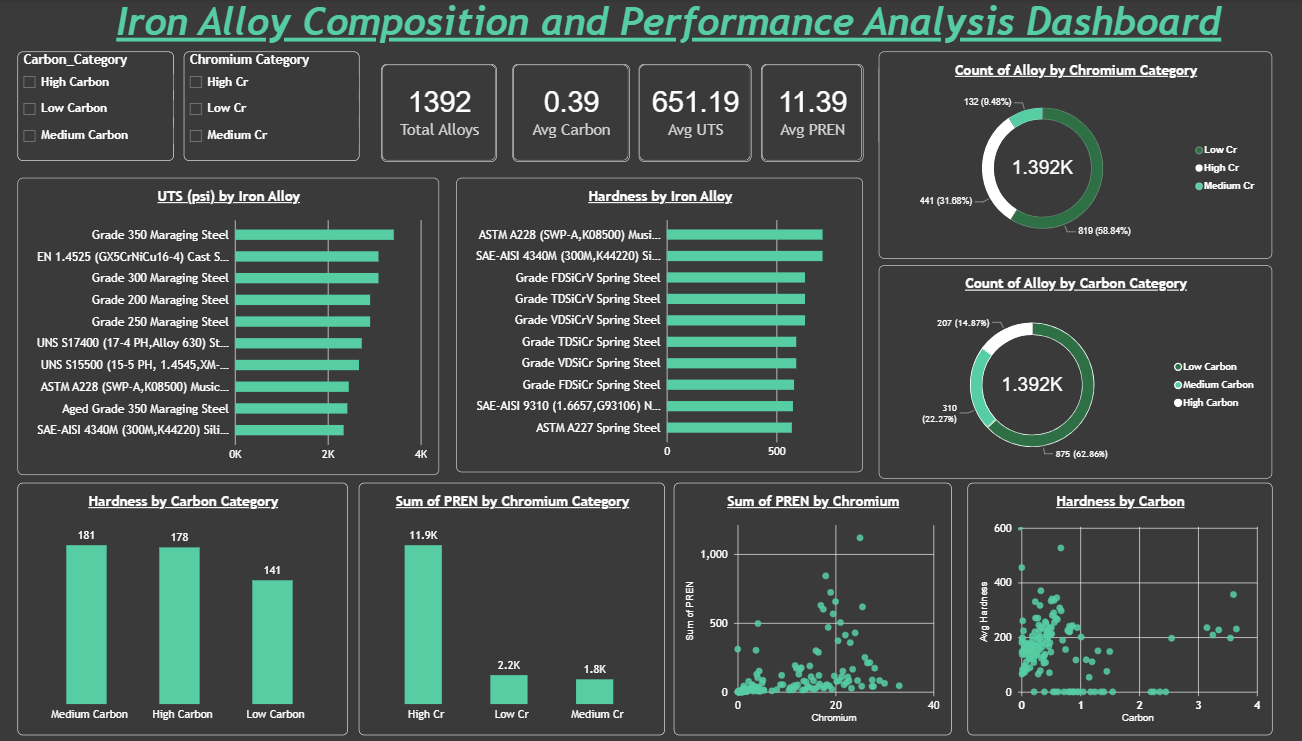

This screenshot's page, from the dashboard's own definition file:
{"tool":"powerbi","page":{"name":"Page 1","canvas":[1920,1080],"ordinal":0},"visuals":[{"type":"cardVisual","fields":{"Data":["Iron_Alloys_Table.Total Alloys"]},"box":[552.2,93.5,167.4,141.3],"z":0},{"type":"cardVisual","fields":{"Data":["Iron_Alloys_Table.Avg UTS"]},"box":[923.9,93.5,163,141.3],"z":1000},{"type":"cardVisual","fields":{"Data":["Iron_Alloys_Table.Avg Carbon"]},"box":[741.3,93.5,169.6,141.3],"z":2000},{"type":"cardVisual","fields":{"Data":["Iron_Alloys_Table.Avg Hardness"]},"box":[1271.7,93.5,178.3,119.6],"z":3000},{"type":"cardVisual","fields":{"Data":["Iron_Alloys_Table.Avg PREN"]},"box":[1102.2,93.5,147.8,141.3],"z":4000},{"type":"clusteredBarChart","title":"UTS (psi) by Iron Alloy","fields":{"Category":["Iron_Alloys_Table.Iron_Alloy_Name"],"Y":["Sum(Iron_Alloys_Table.UTS_psi)"]},"box":[26,258,610,430],"z":5000},{"type":"clusteredBarChart","title":"Hardness by Iron Alloy","fields":{"Category":["Iron_Alloys_Table.Iron_Alloy_Name"],"Y":["Iron_Alloys_Table.Avg Hardness"]},"box":[660.9,258.7,589.1,426.1],"z":6000},{"type":"clusteredColumnChart","title":"Hardness by Carbon Category","fields":{"Category":["Iron_Alloys_Table.Carbon_Category"],"Y":["Iron_Alloys_Table.Avg Hardness"]},"box":[26.1,700,478.3,365.2],"z":7000},{"type":"clusteredColumnChart","title":"Sum of PREN by Chromium Category","fields":{"Category":["Iron_Alloys_Table.Chromium_Category"],"Y":["Sum(Iron_Alloys_Table.PREN)"]},"box":[519.6,700,443.5,365.2],"z":8000},{"type":"scatterChart","title":"Hardness by Carbon","fields":{"X":["Iron_Alloys_Table.Carbon"],"Y":["Iron_Alloys_Table.Avg Hardness"]},"box":[1400,700,441.3,365.2],"z":9000},{"type":"scatterChart","fields":{"X":["Iron_Alloys_Table.Chromium"],"Y":["Sum(Iron_Alloys_Table.PREN)"]},"box":[976.1,700,402.2,365.2],"z":10000},{"type":"slicer","fields":{"Values":["Iron_Alloys_Table.Carbon_Category"]},"box":[26.1,76.1,226,158],"z":11000},{"type":"slicer","fields":{"Values":["Iron_Alloys_Table.Chromium_Category"]},"box":[265.2,76.1,254,158],"z":12000},{"type":"donutChart","title":"Count of Alloy by Carbon Category","fields":{"Category":["Iron_Alloys_Table.Carbon_Category"],"Y":["CountNonNull(Iron_Alloys_Table.Alloy_ID)"]},"box":[1271.7,384.8,569.6,308.7],"z":13000},{"type":"donutChart","title":"Count of Alloy by Chromium Category","fields":{"Category":["Iron_Alloys_Table.Chromium_Category"],"Y":["CountNonNull(Iron_Alloys_Table.Alloy_ID)"]},"box":[1271.7,76.1,569.6,300],"z":14000},{"type":"textbox","box":[1320,494,194,150],"z":15000},{"type":"textbox","box":[168,0,1674,100],"z":16000}]}

Visuals, with their boxes in screenshot pixels (x1, y1, x2, y2), scaled from the page's 1920x1080 canvas onto the 1302x741 screenshot:
cardVisual - Iron_Alloys_Table.Total Alloys: bbox=(374, 64, 488, 161)
cardVisual - Iron_Alloys_Table.Avg UTS: bbox=(627, 64, 737, 161)
cardVisual - Iron_Alloys_Table.Avg Carbon: bbox=(503, 64, 618, 161)
cardVisual - Iron_Alloys_Table.Avg Hardness: bbox=(862, 64, 983, 146)
cardVisual - Iron_Alloys_Table.Avg PREN: bbox=(747, 64, 848, 161)
"UTS (psi) by Iron Alloy" clusteredBarChart: bbox=(18, 177, 431, 472)
"Hardness by Iron Alloy" clusteredBarChart: bbox=(448, 177, 848, 470)
"Hardness by Carbon Category" clusteredColumnChart: bbox=(18, 480, 342, 731)
"Sum of PREN by Chromium Category" clusteredColumnChart: bbox=(352, 480, 653, 731)
"Hardness by Carbon" scatterChart: bbox=(949, 480, 1249, 731)
scatterChart - Iron_Alloys_Table.Chromium x Sum(Iron_Alloys_Table.PREN): bbox=(662, 480, 935, 731)
slicer - Iron_Alloys_Table.Carbon_Category: bbox=(18, 52, 171, 161)
slicer - Iron_Alloys_Table.Chromium_Category: bbox=(180, 52, 352, 161)
"Count of Alloy by Carbon Category" donutChart: bbox=(862, 264, 1249, 476)
"Count of Alloy by Chromium Category" donutChart: bbox=(862, 52, 1249, 258)
textbox: bbox=(895, 339, 1027, 442)
textbox: bbox=(114, 0, 1249, 69)
